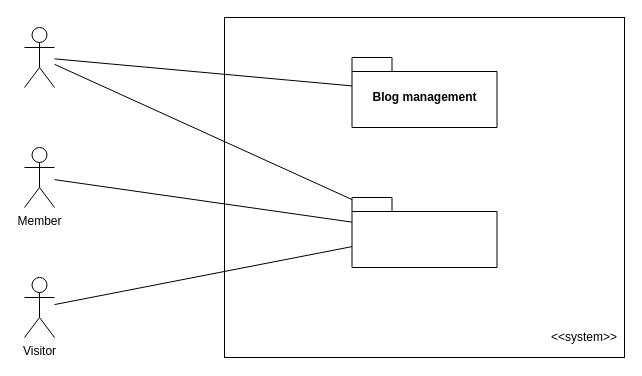
Image size: 642x376. Some labels were removed from this diagram. The box of each missing label's shape, as (x1, y1, x2, y2) in pixels:
Admin: (24, 26, 54, 88)
Public access: (351, 196, 497, 268)
